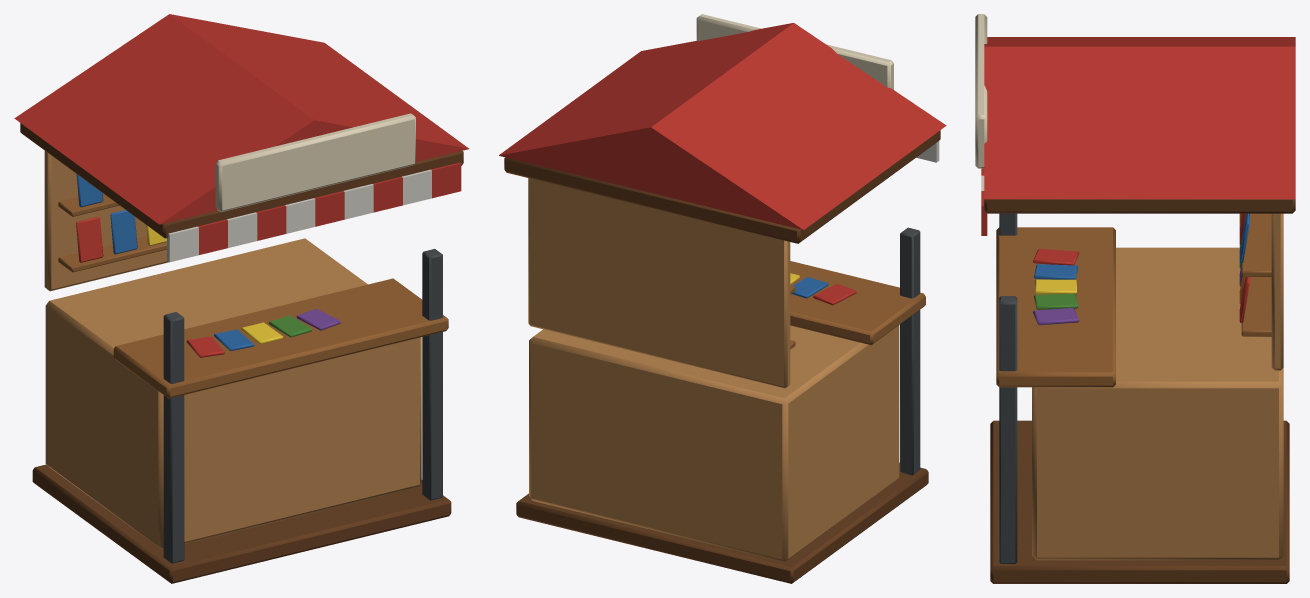
Rendered from 178_kiosque_pochettes.fbx.
3 renders of one model, left to right at view 1: azimuth 30°, elevation 25°; view 2: azimuth 150°, elevation 25°; view 3: azimuth 270°, elevation 25°, orthographic. The views are drawn at different scales.
Visible parts, largest first — view 1: Kiosque, Enseigne, Pochettes; view 2: Kiosque, Enseigne, Pochettes; view 3: Kiosque, Pochettes, Enseigne.
Boxes of the visible parts, x1,y1,x2,y2 form: Kiosque: [14, 14, 469, 583]; Enseigne: [215, 113, 415, 212]; Pochettes: [76, 174, 340, 357]; Kiosque: [499, 23, 946, 583]; Enseigne: [696, 14, 893, 89]; Pochettes: [790, 273, 856, 305]; Kiosque: [981, 37, 1295, 583]; Pochettes: [1033, 213, 1249, 325]; Enseigne: [975, 14, 987, 168].
Bounding box in the file's own units: 1.68 × 2.24 × 1.4.
Materials: 1 (1 with a texture image).
